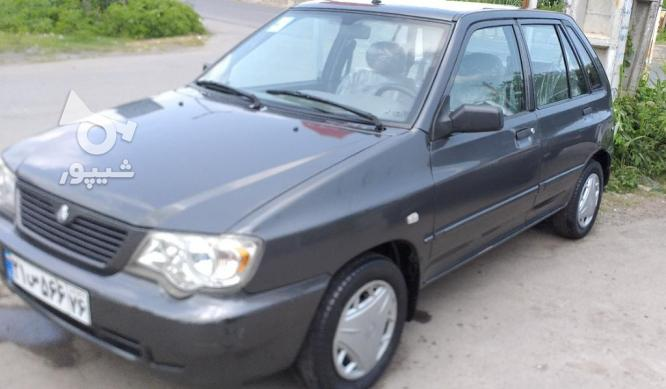car: (3, 250, 92, 327)
